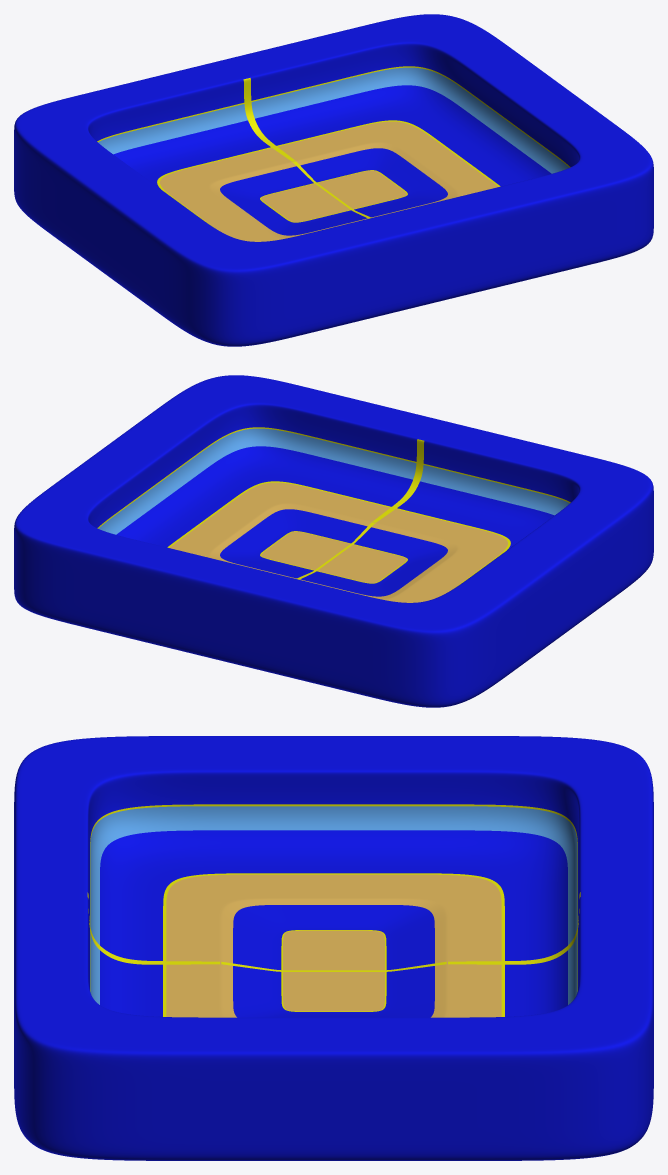
File: TERRAIN TEST.fbx
The picture shows the model from 3 angles, top to bottom: view 1: azimuth 30°, elevation 25°; view 2: azimuth 150°, elevation 25°; view 3: azimuth 270°, elevation 25°; orthographic projection. The views are drawn at different scales.
Parts seen in each view (by area): view 1: Plane; view 2: Plane; view 3: Plane.
Part boxes in pixels (x1,y1,x2,y2): Plane: [14, 14, 653, 346]; Plane: [14, 375, 653, 707]; Plane: [14, 736, 653, 1160].
Size of the model in its own units: 347781 by 57806 by 294430.
